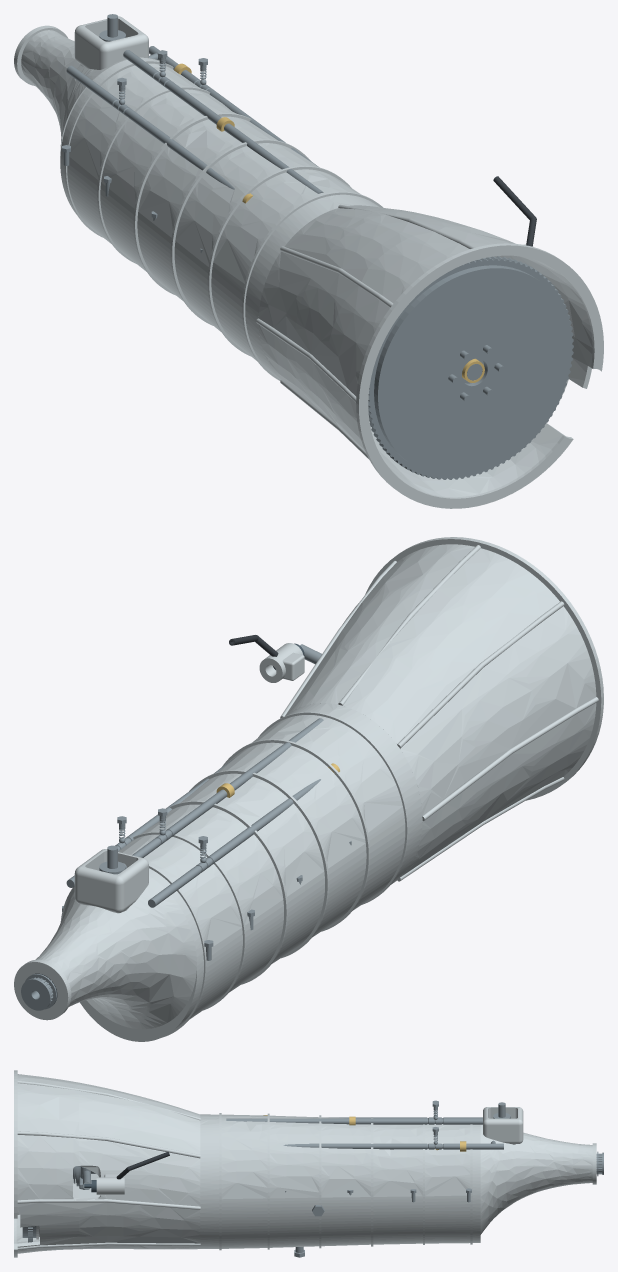
The model's file is structure-transmission.glb.
3 views of the same model, one above another, from view 1: azimuth 30°, elevation 25°; view 2: azimuth 150°, elevation 25°; view 3: azimuth 270°, elevation 25° (orthographic). The views are drawn at different scales.
Parts seen in each view (by area): view 1: GBX-BELLHOUSING, GBX-CASE-UPPER, CLU-FLYWHEEL, GBX-CASE-LOWER, GBX-TAIL-HOUSING, CLU-FLYWHEEL-RING-GEAR, GBX-SHIFT-TOWER, GBX-SHIFT-RAIL-1-2, GBX-SHIFT-RAIL-3-4, GBX-SHIFT-RAIL-5-R; view 2: GBX-BELLHOUSING, GBX-CASE-UPPER, GBX-TAIL-HOUSING, GBX-CASE-LOWER, GBX-SHIFT-TOWER, GBX-SHIFT-RAIL-1-2, GBX-SHIFT-RAIL-3-4, CLU-SLAVE-CYLINDER, GBX-OUTPUT-RETAINER, GBX-MAIN-OUTPUT-SHAFT; view 3: GBX-BELLHOUSING, GBX-CASE-UPPER, GBX-CASE-LOWER, GBX-TAIL-HOUSING, GBX-SHIFT-RAIL-1-2, GBX-SHIFT-TOWER, GBX-SHIFT-RAIL-5-R, CLU-SLAVE-CYLINDER, CLU-HYDRAULIC-INLET, GBX-SHIFT-RAIL-3-4.
Part boxes in pixels (x1,y1,x2,y2): GBX-BELLHOUSING: [256, 204, 603, 508]; GBX-CASE-UPPER: [61, 57, 383, 307]; CLU-FLYWHEEL: [374, 265, 571, 476]; GBX-CASE-LOWER: [60, 150, 280, 380]; GBX-TAIL-HOUSING: [14, 25, 159, 155]; CLU-FLYWHEEL-RING-GEAR: [368, 256, 573, 479]; GBX-SHIFT-TOWER: [74, 16, 148, 69]; GBX-SHIFT-RAIL-1-2: [123, 50, 323, 193]; GBX-SHIFT-RAIL-3-4: [66, 65, 234, 189]; GBX-SHIFT-RAIL-5-R: [149, 46, 318, 166]; GBX-BELLHOUSING: [280, 537, 603, 881]; GBX-CASE-UPPER: [118, 703, 421, 956]; GBX-TAIL-HOUSING: [14, 876, 196, 1029]; GBX-CASE-LOWER: [80, 806, 422, 1041]; GBX-SHIFT-TOWER: [74, 849, 148, 913]; GBX-SHIFT-RAIL-1-2: [123, 718, 323, 868]; GBX-SHIFT-RAIL-3-4: [148, 779, 320, 907]; CLU-SLAVE-CYLINDER: [259, 643, 304, 682]; GBX-OUTPUT-RETAINER: [21, 974, 56, 1010]; GBX-MAIN-OUTPUT-SHAFT: [22, 977, 55, 1009]; GBX-BELLHOUSING: [14, 1070, 200, 1257]; GBX-CASE-UPPER: [200, 1113, 480, 1199]; GBX-CASE-LOWER: [200, 1195, 480, 1250]; GBX-TAIL-HOUSING: [480, 1124, 596, 1234]; GBX-SHIFT-RAIL-1-2: [226, 1118, 482, 1124]; GBX-SHIFT-TOWER: [483, 1107, 523, 1143]; GBX-SHIFT-RAIL-5-R: [283, 1143, 503, 1149]; CLU-SLAVE-CYLINDER: [96, 1174, 124, 1194]; CLU-HYDRAULIC-INLET: [116, 1151, 169, 1179]; GBX-SHIFT-RAIL-3-4: [329, 1117, 482, 1119].
Size of the model in its own units: 0.3903 by 0.3619 by 1.14.
